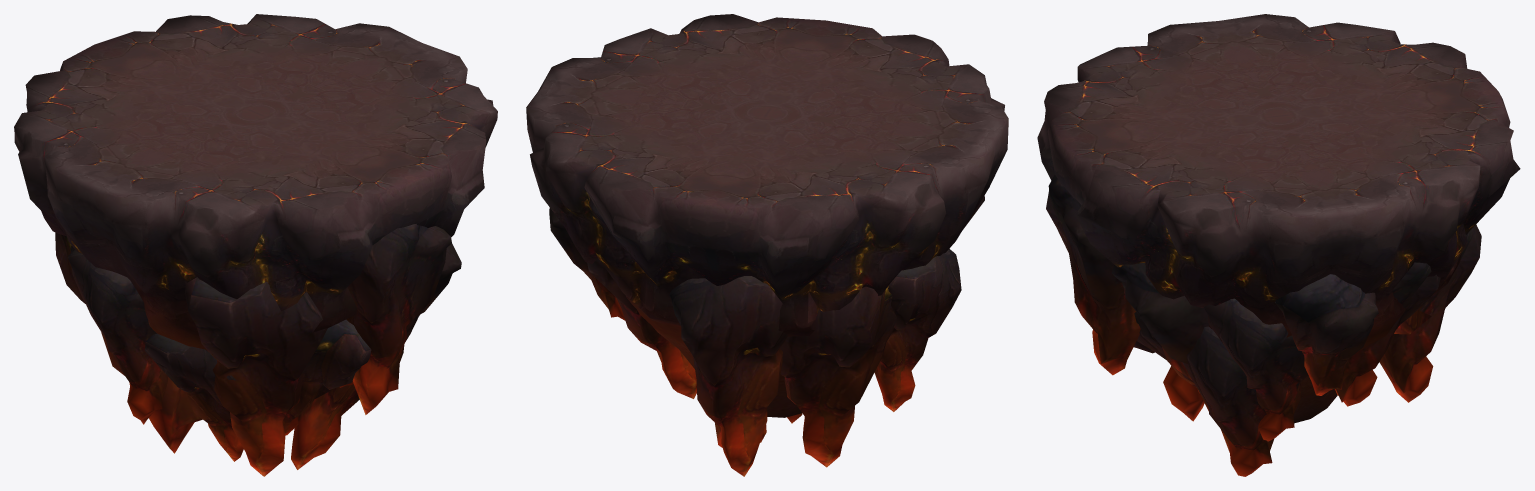
The model's file is Dxlm_dibiao03.FBX.
3 renders of one model, left to right at view 1: azimuth 30°, elevation 25°; view 2: azimuth 150°, elevation 25°; view 3: azimuth 270°, elevation 25°, orthographic.
Parts seen in each view (by area): view 1: Dxlm_dibiao03sm, Dxlm_dibiao03_xm; view 2: Dxlm_dibiao03sm, Dxlm_dibiao03_xm; view 3: Dxlm_dibiao03sm, Dxlm_dibiao03_xm.
Boxes of the visible parts, left/top/right/bottom form: Dxlm_dibiao03sm: left=14, top=14, right=497, bottom=349; Dxlm_dibiao03_xm: left=55, top=224, right=461, bottom=476; Dxlm_dibiao03sm: left=526, top=14, right=1008, bottom=417; Dxlm_dibiao03_xm: left=549, top=195, right=984, bottom=476; Dxlm_dibiao03sm: left=1037, top=14, right=1520, bottom=423; Dxlm_dibiao03_xm: left=1046, top=175, right=1481, bottom=476.
Bounding box in the file's own units: 648 × 648 × 516.
